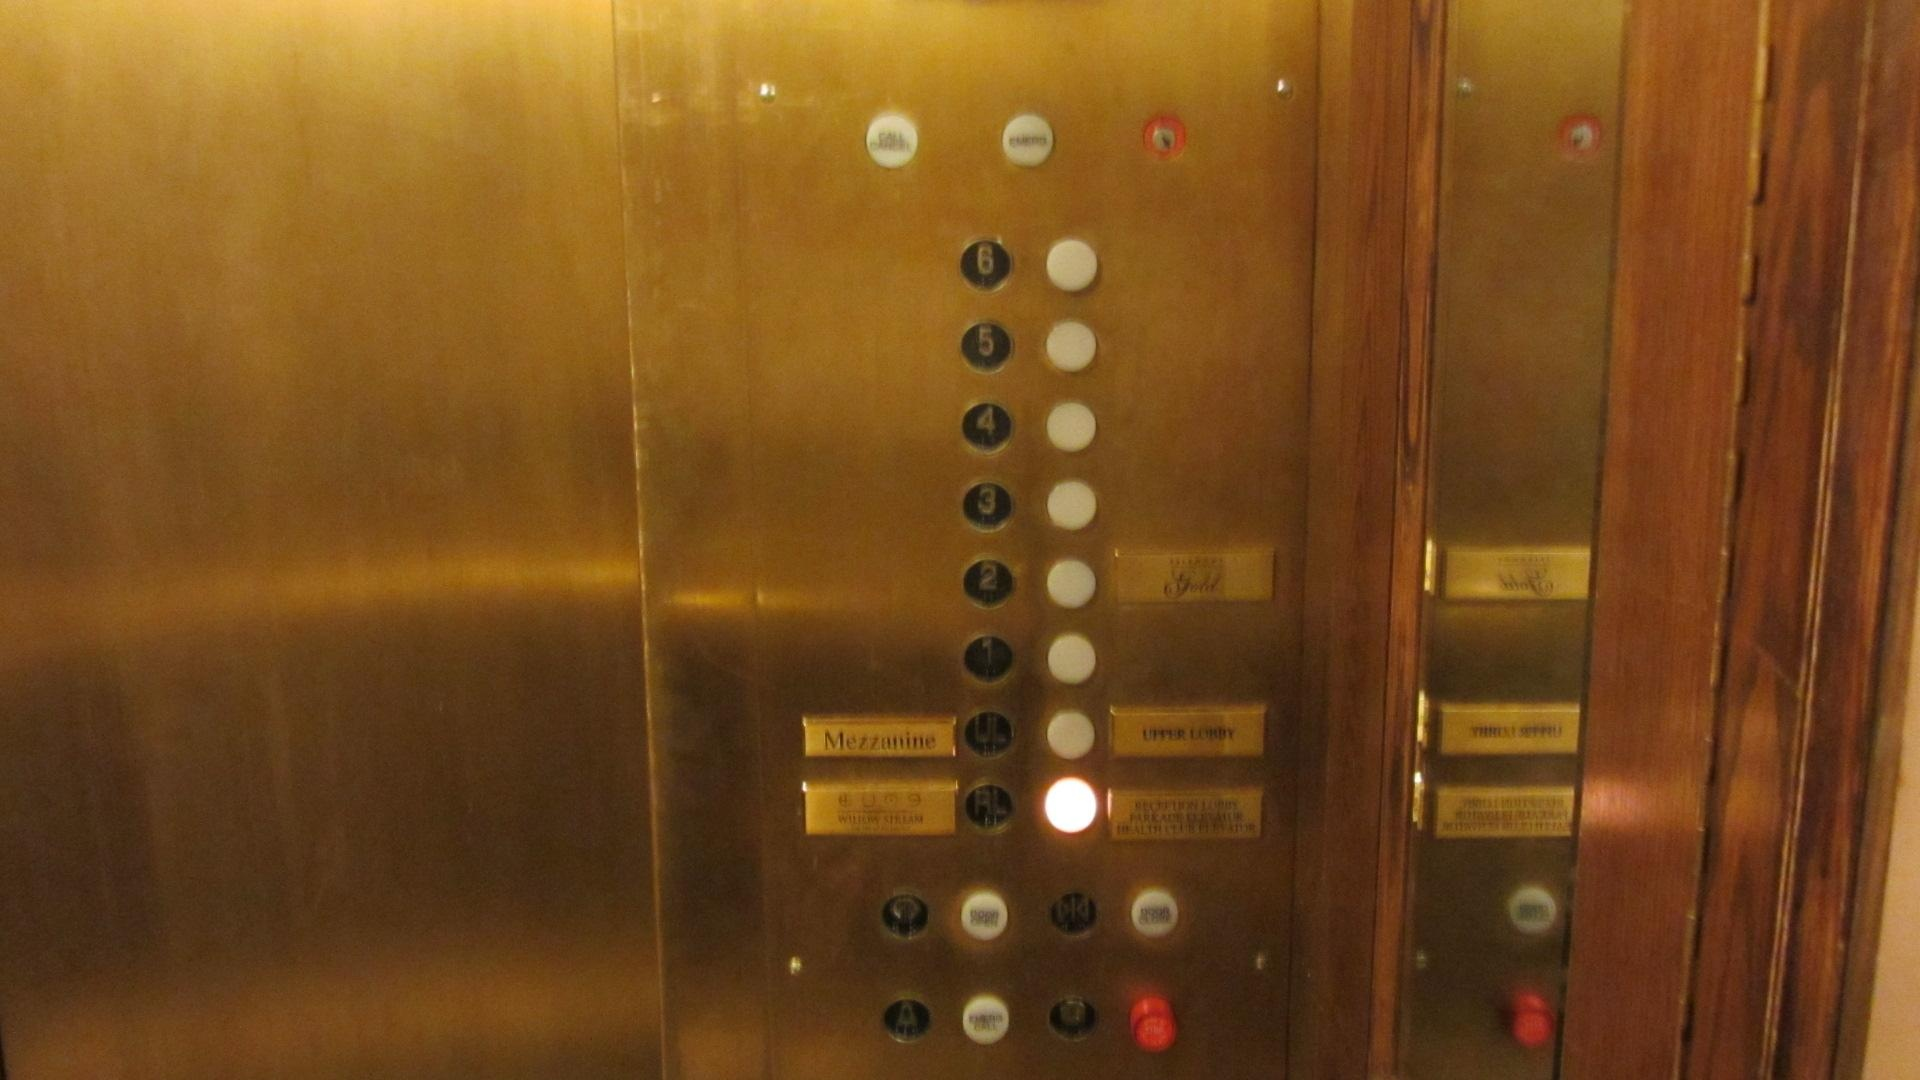1: (964, 634, 1013, 679)
2: (963, 554, 1017, 609)
3: (959, 477, 1014, 531)
4: (961, 400, 1015, 454)
5: (957, 319, 1015, 375)
6: (956, 237, 1015, 293)
RL: (967, 779, 1018, 833)
UL: (967, 709, 1013, 762)
alarm: (877, 992, 934, 1050)
close: (1051, 889, 1105, 942)
empty: (1042, 773, 1101, 833), (1040, 316, 1100, 373), (1043, 237, 1102, 293), (1046, 479, 1101, 534), (1043, 555, 1098, 611), (1044, 400, 1098, 454), (1047, 633, 1101, 687), (1044, 709, 1098, 764)
keyhole: (1141, 109, 1191, 161), (1555, 111, 1605, 162), (1051, 992, 1100, 1036)
open: (880, 890, 934, 942)
text: (862, 112, 922, 171), (1000, 111, 1058, 171), (1503, 990, 1557, 1055), (959, 889, 1013, 942), (1127, 887, 1182, 939), (961, 994, 1011, 1047)
text_blur: (1124, 993, 1179, 1058), (1506, 886, 1560, 938)
